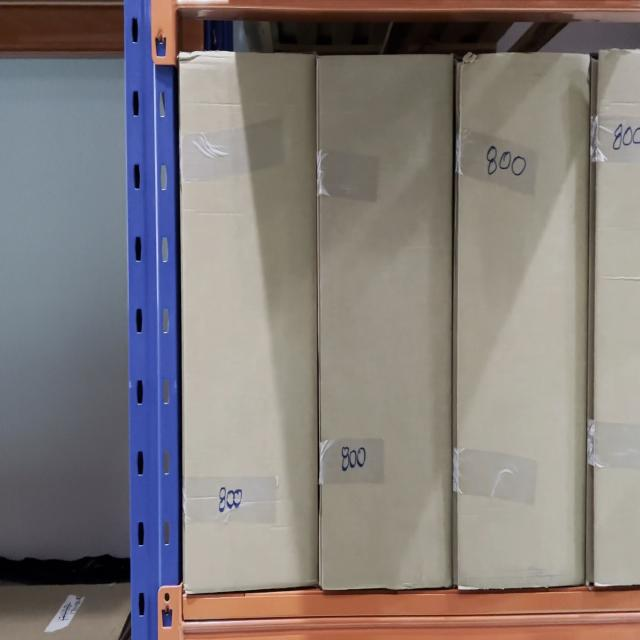box: (180, 52, 320, 588), (318, 50, 452, 592), (457, 48, 588, 586)
